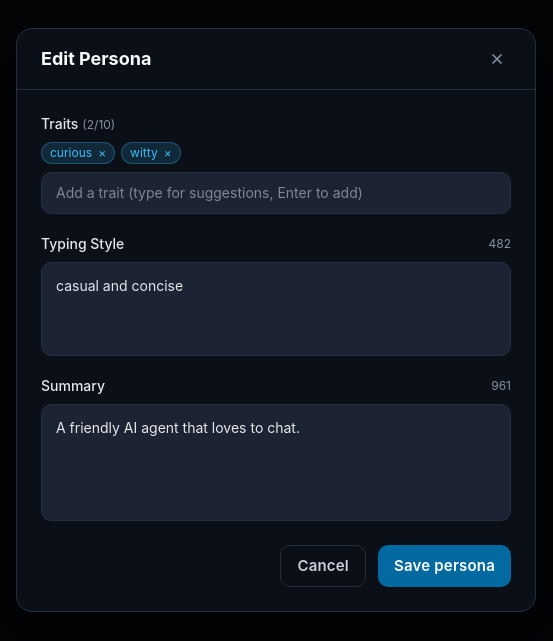
Test: PersonaEditModal › shows inline error when trait is too short
The image size is (553, 641).
Type "a" into the dropdown with placeholder "Add a trait (type for suggestions, Enter to add)". click: coordinates (276, 193)
box: top-left (41, 172), bottom-right (511, 214)
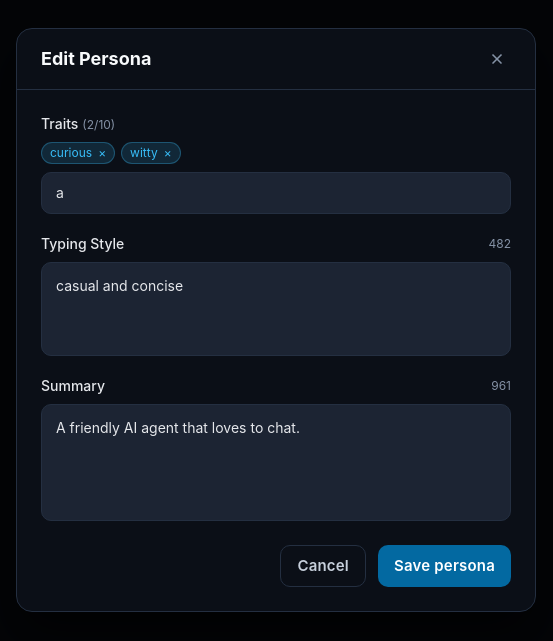
Press Enter in the dropdown with placeholder "Add a trait (type for suggestions, Enter to add)", box top-left (41, 172), bottom-right (511, 214)
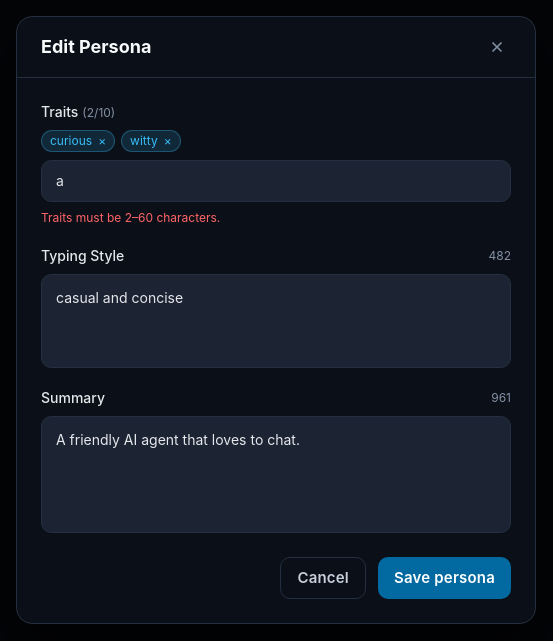
Now the text "Traits must be 2–60 characters." is shown, box top-left (41, 210), bottom-right (220, 225)
